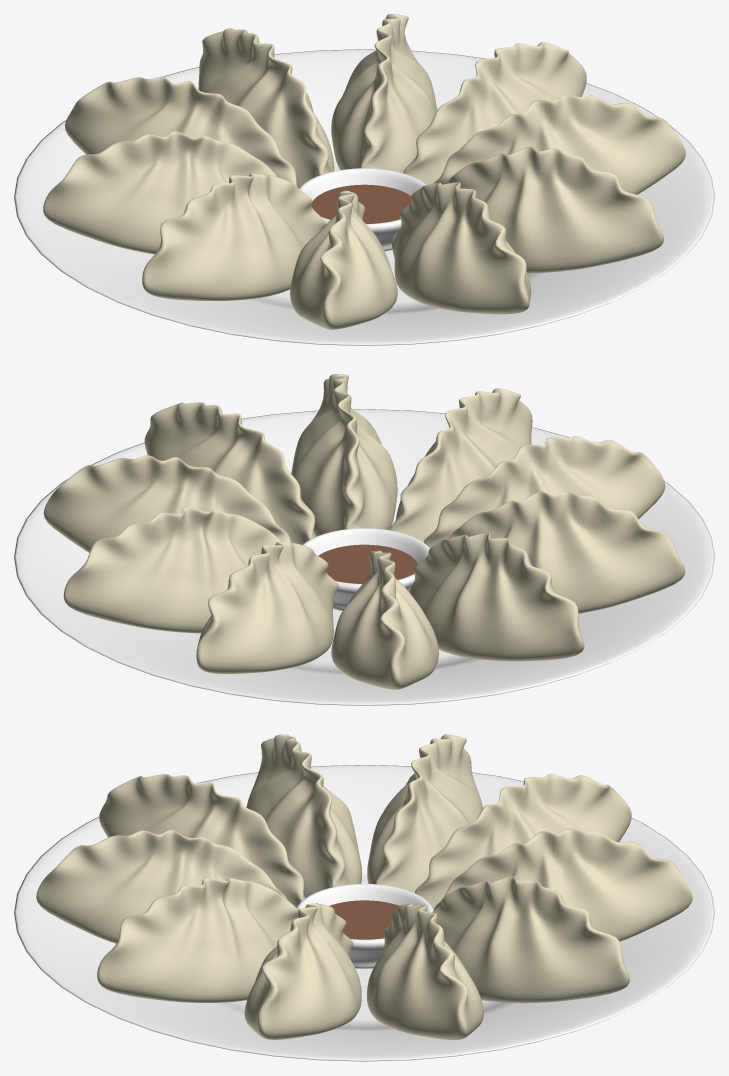
Rendered from dumplings.glb.
3 renders of one model, top to bottom at view 1: azimuth 30°, elevation 25°; view 2: azimuth 150°, elevation 25°; view 3: azimuth 270°, elevation 25°, orthographic.
Parts seen in each view (by area): view 1: Dumpling.001, Plate, Sauce; view 2: Dumpling.001, Plate, Sauce; view 3: Dumpling.001, Plate, Sauce.
Boxes of the visible parts, x1,y1,x2,y2 form: Dumpling.001: (43,14,685,329); Plate: (14,49,714,345); Sauce: (299,168,425,251); Dumpling.001: (43,374,685,689); Plate: (14,409,714,705); Sauce: (303,528,429,610); Dumpling.001: (36,734,692,1039); Plate: (14,765,714,1061); Sauce: (296,884,433,968).
Size of the model in its own units: 0.7404 by 0.1668 by 0.7404.
